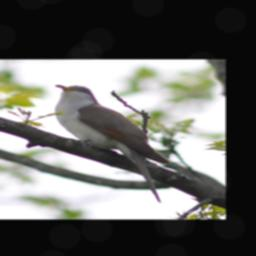Cuckoo: (53, 85, 172, 205)
